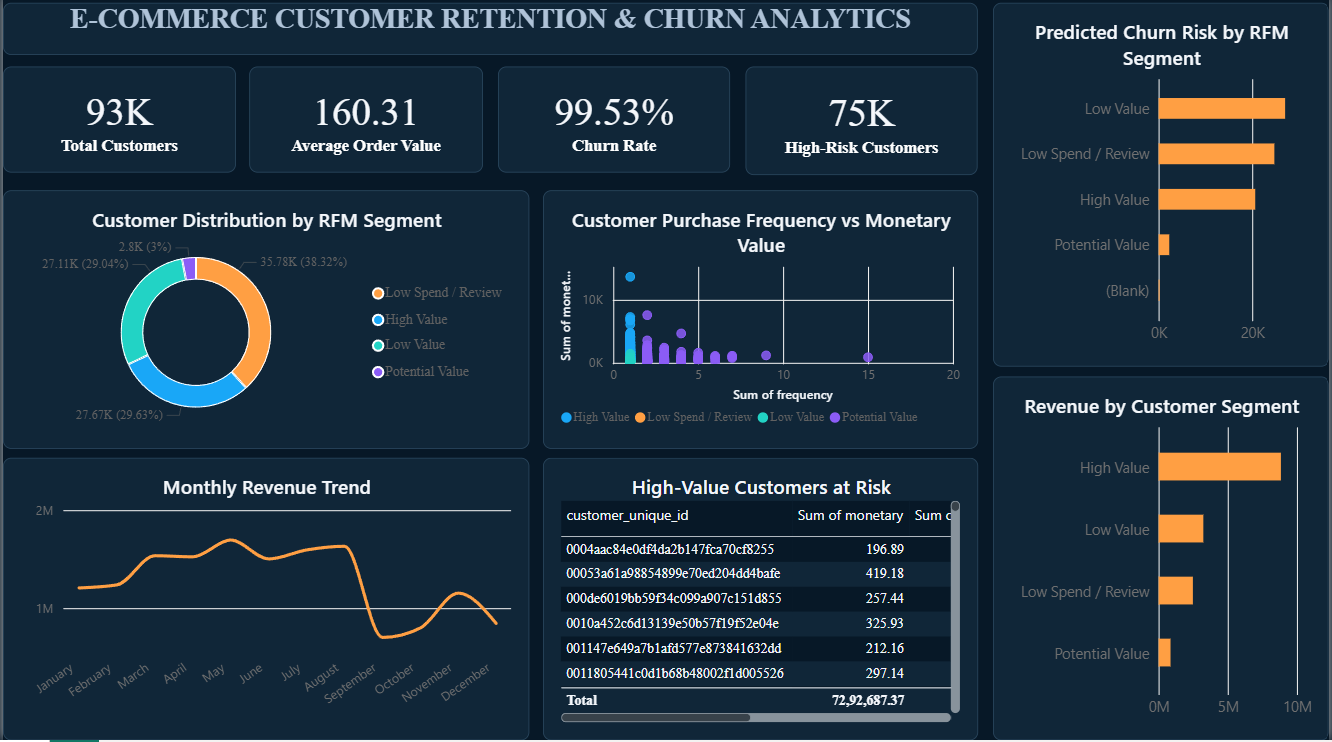

Layout of this report page (visuals, bound fields, positions):
{"tool":"powerbi","page":{"name":"Page 1","canvas":[1280,720],"ordinal":0},"visuals":[{"type":"card","fields":{"Values":["churn_threshold_comparison.Total Customers"]},"box":[0,70,225,102.5],"z":0},{"type":"card","fields":{"Values":["churn_threshold_comparison.Churn Rate"]},"box":[477.8,70,224.4,102.5],"z":1000},{"type":"card","fields":{"Values":["churn_threshold_comparison.Average Order Value"]},"box":[237.7,70,225.6,102.5],"z":2000},{"type":"card","fields":{"Values":["churn_threshold_comparison.High-Risk Customers"]},"box":[716.6,70,224.4,105],"z":3000},{"type":"donutChart","title":"Customer Distribution by RFM Segment","fields":{"Category":["customer_rfm_segments.segment"],"Y":["CountNonNull(customer_rfm_segments.customer_unique_id)"]},"box":[0,189.4,507.9,249.7],"z":4000},{"type":"clusteredBarChart","title":"Revenue by Customer Segment","fields":{"Category":["customer_rfm_segments.segment"],"Y":["Sum(customer_rfm_segments.monetary)"]},"box":[955.5,369.2,324.5,351.1],"z":5000},{"type":"scatterChart","title":"Customer Purchase Frequency vs Monetary Value","fields":{"X":["Sum(customer_rfm_segments.frequency)"],"Category":["customer_rfm_segments.customer_unique_id"],"Y":["Sum(customer_rfm_segments.monetary)"],"Series":["customer_rfm_segments.segment"]},"box":[521.2,189.4,419.8,249.7],"z":6000},{"type":"lineChart","title":"Monthly Revenue Trend","fields":{"Y":["Sum(monthly_order_revenue.revenue)"],"Category":["monthly_order_revenue.order_purchase_timestamp.Variation.Date Hierarchy.Month"]},"box":[0,447.6,507.9,272.7],"z":7000},{"type":"clusteredBarChart","title":"Predicted Churn Risk by RFM Segment","fields":{"Y":["customer_churn_scored.Churn Risk Count"],"Category":["customer_rfm_segments.segment"]},"box":[955.5,8.4,324.5,351.1],"z":8000},{"type":"tableEx","title":"High-Value Customers at Risk","fields":{"Values":["high_value_high_risk_action_list.customer_unique_id","Sum(high_value_high_risk_action_list.monetary)","Sum(high_value_high_risk_action_list.frequency)","Sum(high_value_high_risk_action_list.recency)","Sum(high_value_high_risk_action_list.predicted_churn_probability)"]},"box":[521.2,447.6,419.8,272.7],"z":9000},{"type":"textbox","box":[0,8.4,941,50.7],"z":9001}]}

Visuals, with their boxes in screenshot pixels (x1, y1, x2, y2), scaled from the page's 1280x720 canvas onto the 1332x742 screenshot:
card - churn_threshold_comparison.Total Customers: <bbox>0, 72, 234, 178</bbox>
card - churn_threshold_comparison.Churn Rate: <bbox>497, 72, 731, 178</bbox>
card - churn_threshold_comparison.Average Order Value: <bbox>247, 72, 482, 178</bbox>
card - churn_threshold_comparison.High-Risk Customers: <bbox>746, 72, 979, 180</bbox>
"Customer Distribution by RFM Segment" donutChart: <bbox>0, 195, 529, 453</bbox>
"Revenue by Customer Segment" clusteredBarChart: <bbox>994, 380, 1331, 741</bbox>
"Customer Purchase Frequency vs Monetary Value" scatterChart: <bbox>542, 195, 979, 453</bbox>
"Monthly Revenue Trend" lineChart: <bbox>0, 461, 529, 741</bbox>
"Predicted Churn Risk by RFM Segment" clusteredBarChart: <bbox>994, 9, 1331, 370</bbox>
"High-Value Customers at Risk" tableEx: <bbox>542, 461, 979, 741</bbox>
textbox: <bbox>0, 9, 979, 61</bbox>
